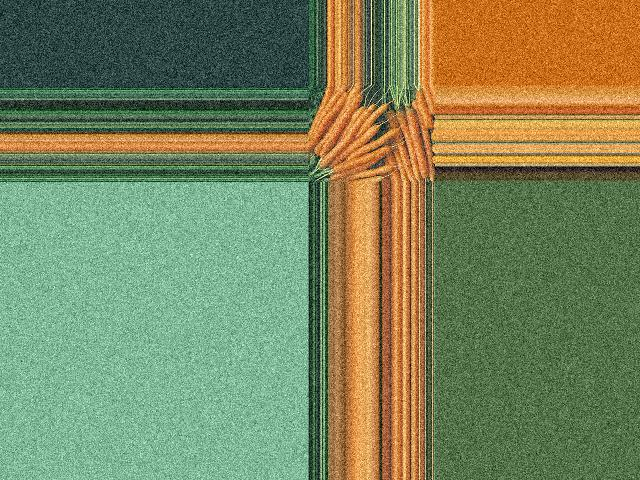carrot: (331, 151, 388, 178)
